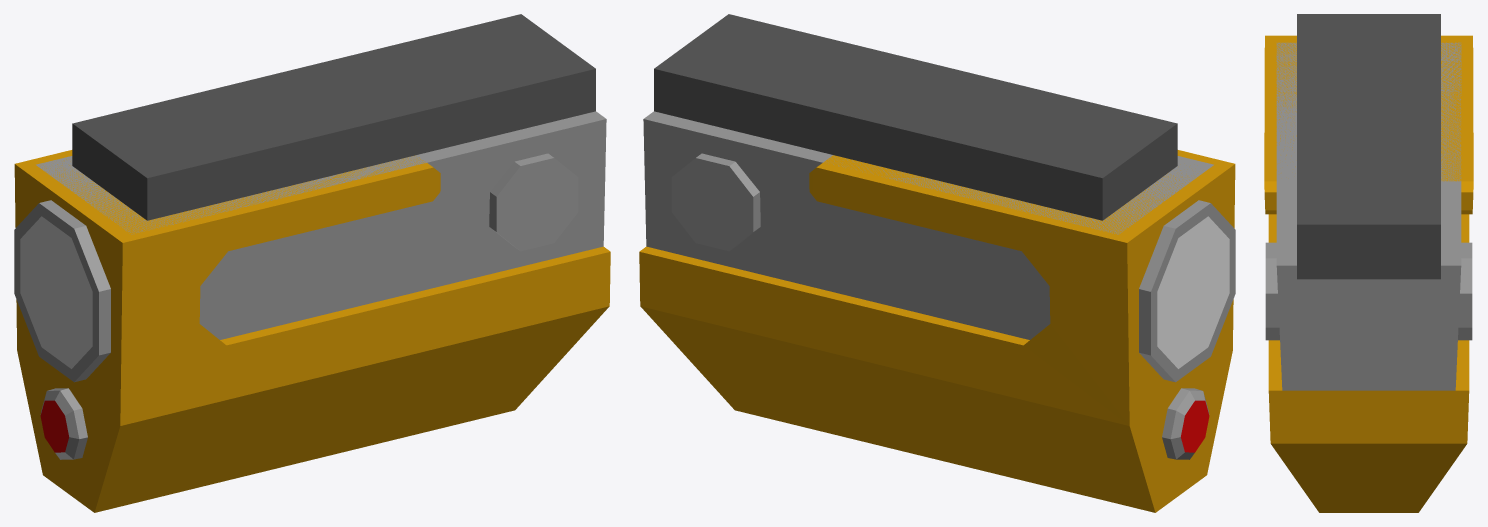
File: SM_LaserComboS.fbx
3 views of the same model, side by side, from view 1: azimuth 30°, elevation 25°; view 2: azimuth 150°, elevation 25°; view 3: azimuth 270°, elevation 25° (orthographic). The views are drawn at different scales.
Visible parts, largest first — view 1: SM_LaserComboS; view 2: SM_LaserComboS; view 3: SM_LaserComboS.
Boxes of the visible parts, x1,y1,x2,y2 form: SM_LaserComboS: (14, 14, 610, 512); SM_LaserComboS: (639, 14, 1235, 512); SM_LaserComboS: (1264, 14, 1473, 512).
Size of the model in its own units: 6.16 by 3.89 by 2.3.
